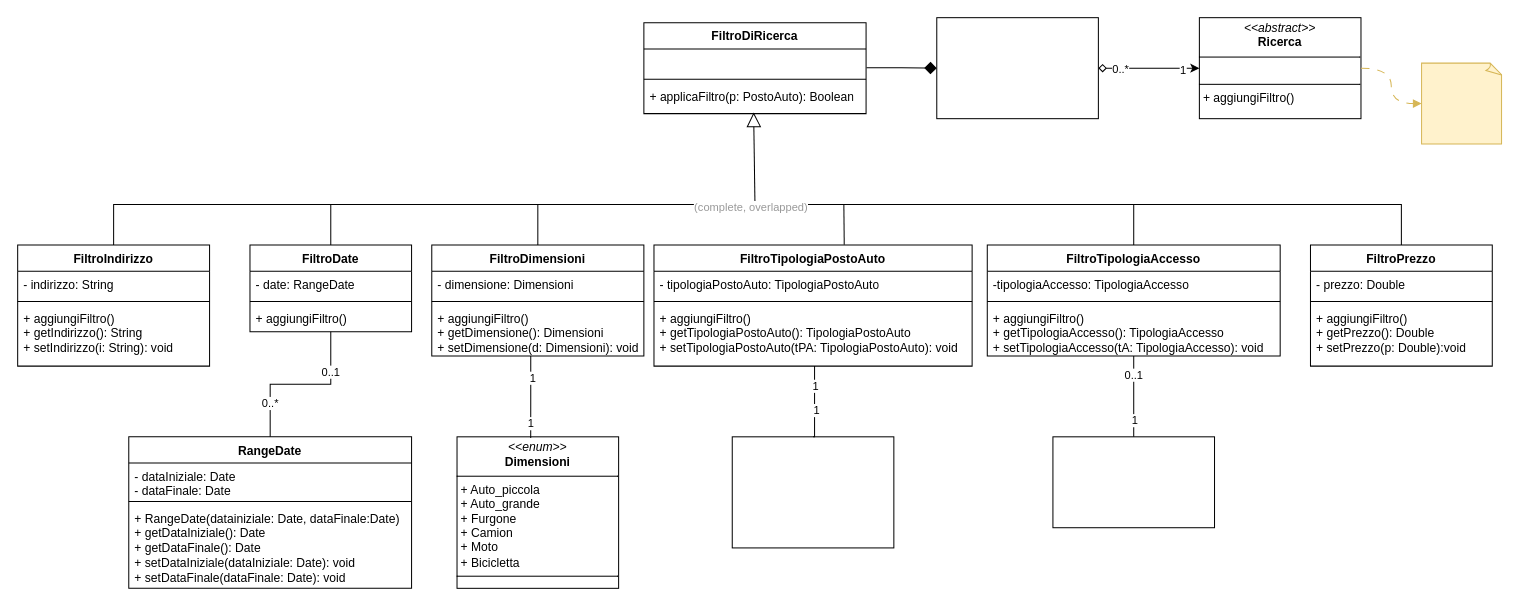
Some shapes in this 1520 by 609 pixel diagram are drawn without their labels. The centre of each missing label's shape, as x and y in pixels:
"<<abstract>> Filtri + aggiungiFiltro()" belongs at [1017,68].
"<<enum>> TipologiaAccesso + Codice + Chiave" belongs at [1133,482].
"<<enum>> TipologiaPostoAuto + Al_chiuso + Outdoor_Coperto + Outdoor_Scoperto" belongs at [812,492].
"Pattern Decorator" belongs at [1461,103].
